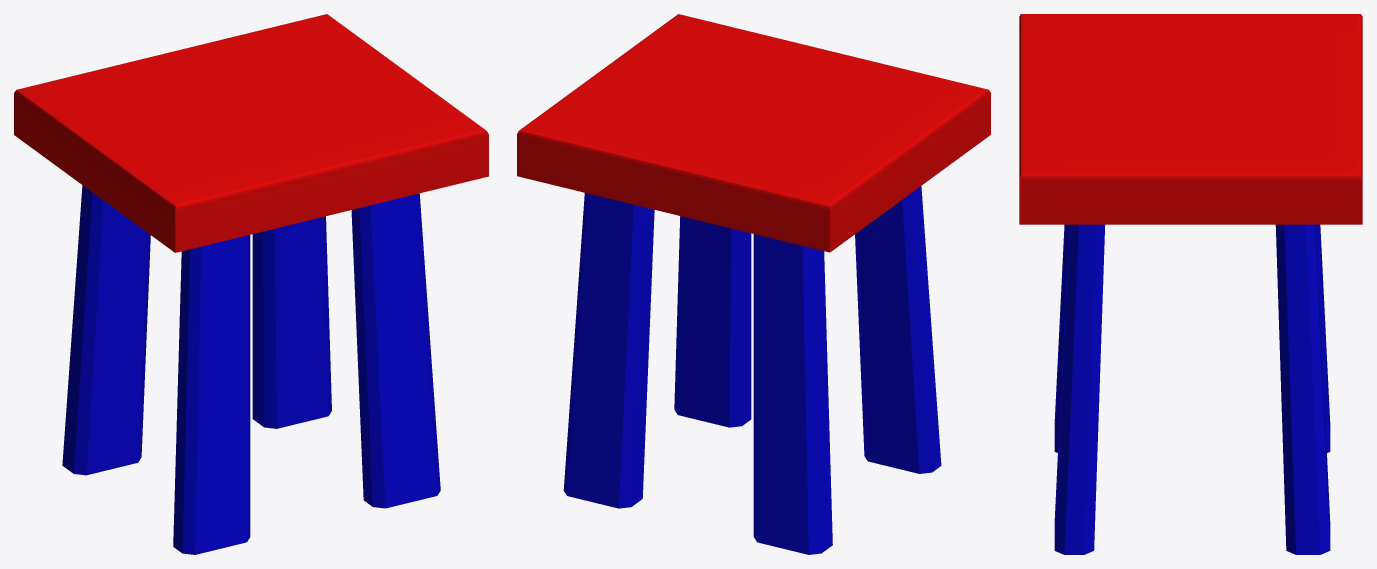
Rendered from CoffeeTable2.fbx.
3 views of the same model, side by side, from view 1: azimuth 30°, elevation 25°; view 2: azimuth 150°, elevation 25°; view 3: azimuth 270°, elevation 25° (orthographic). The views are drawn at different scales.
Visible parts, largest first — view 1: pCube1; view 2: pCube1; view 3: pCube1.
Boxes of the visible parts, x1=… form: pCube1: x1=14, y1=14, x2=488, y2=554; pCube1: x1=517, y1=14, x2=990, y2=554; pCube1: x1=1019, y1=14, x2=1362, y2=554.
Size of the model in its own units: 52.6 by 59.26 by 46.81.
